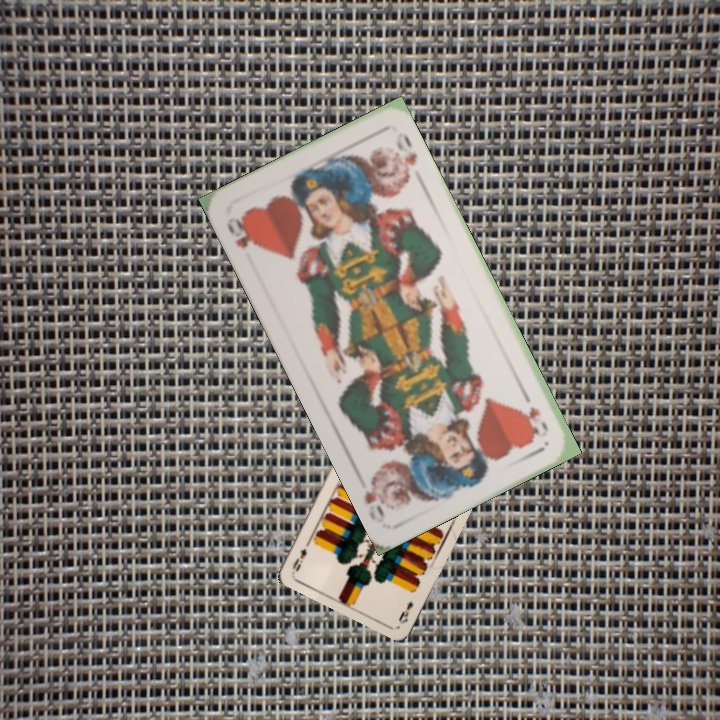E9: (394, 598, 416, 627)
HO: (518, 386, 551, 440), (222, 212, 259, 251)
